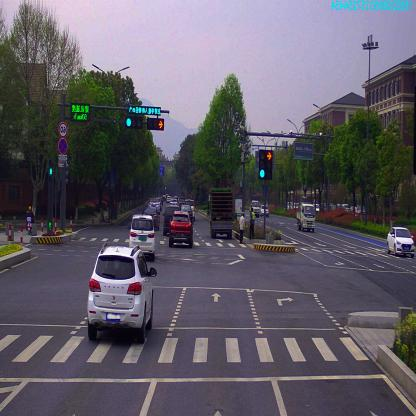traffic-light: (127, 106, 160, 116), (126, 116, 144, 129), (146, 118, 164, 130)
